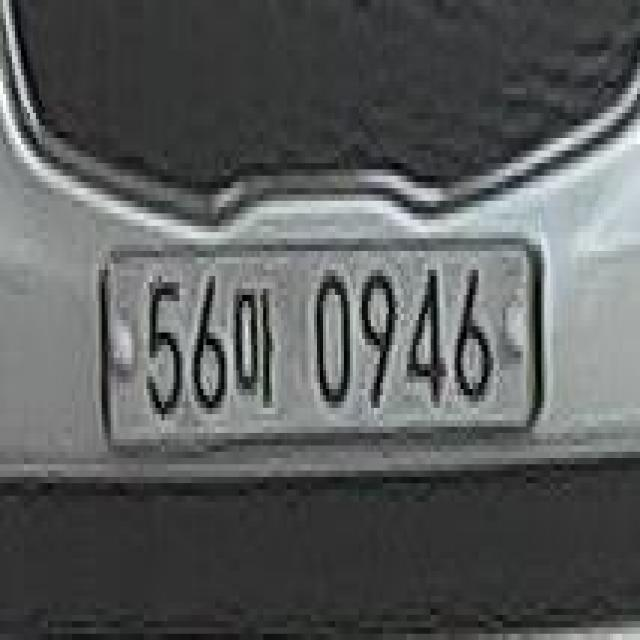illegal_plate: (96, 226, 543, 464)
